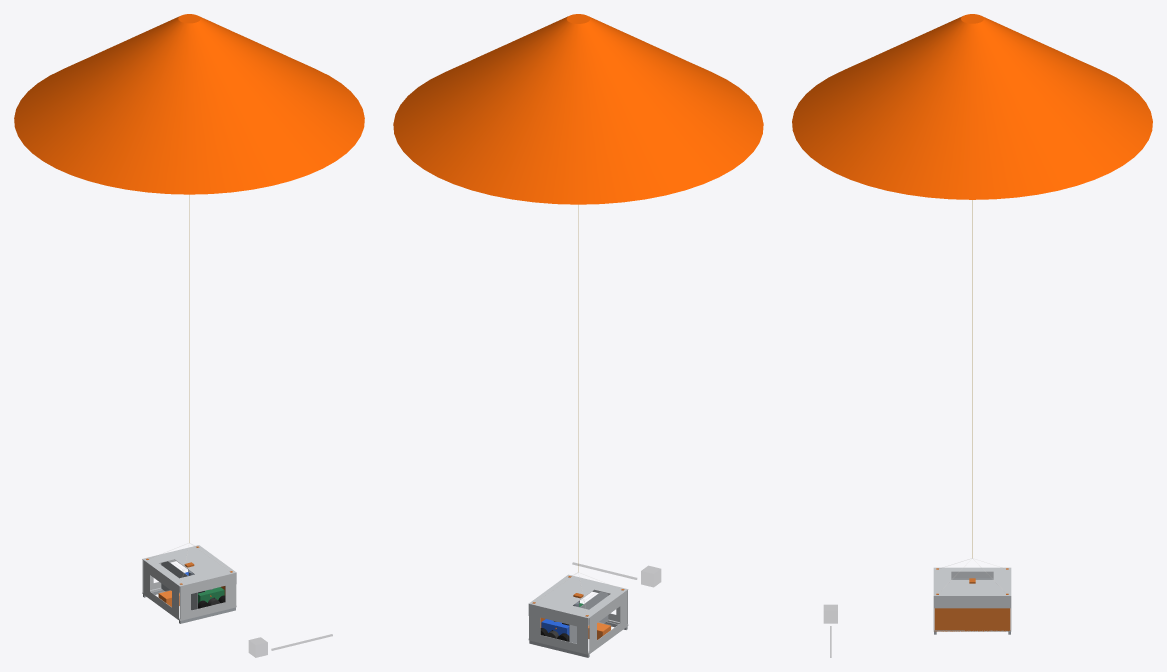
File: descent.glb
3 views of the same model, side by side, from view 1: azimuth 30°, elevation 25°; view 2: azimuth 150°, elevation 25°; view 3: azimuth 270°, elevation 25° (orthographic). The views are drawn at different scales.
Parts seen in each view (by area): view 1: viz_canopy, transport_pod/pod_roof, transport_pod/pod_wall_right, transport_pod/pod_wall_aft; view 2: viz_canopy, transport_pod/pod_roof, transport_pod/pod_wall_left, transport_pod/pod_wall_aft; view 3: viz_canopy, transport_pod/pod_roof, transport_pod/ramp_and_chocks, transport_pod/front_header.
Boxes of the visible parts, x1,y1,x2,y2 form: viz_canopy: [14, 14, 364, 194]; transport_pod/pod_roof: [142, 545, 236, 586]; transport_pod/pod_wall_right: [180, 573, 236, 619]; transport_pod/pod_wall_aft: [143, 559, 179, 619]; viz_canopy: [393, 14, 763, 204]; transport_pod/pod_roof: [529, 574, 628, 618]; transport_pod/pod_wall_left: [529, 603, 588, 652]; transport_pod/pod_wall_aft: [589, 590, 627, 652]; viz_canopy: [792, 14, 1152, 199]; transport_pod/pod_roof: [933, 567, 1011, 596]; transport_pod/ramp_and_chocks: [934, 608, 1010, 631]; transport_pod/front_header: [934, 596, 1010, 608].
Size of the model in its own units: 2.5 by 4.6 by 2.5.
